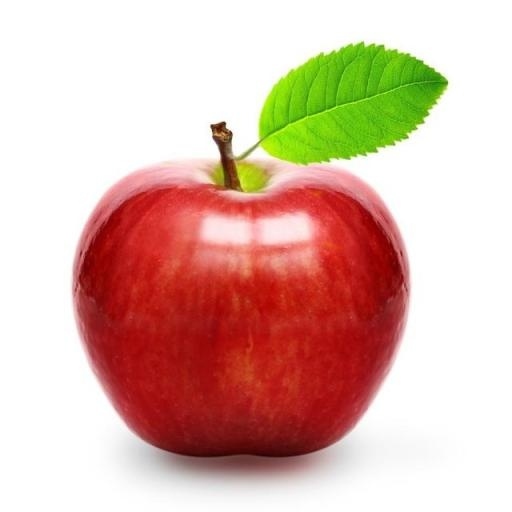fruit: (73, 160, 407, 455)
